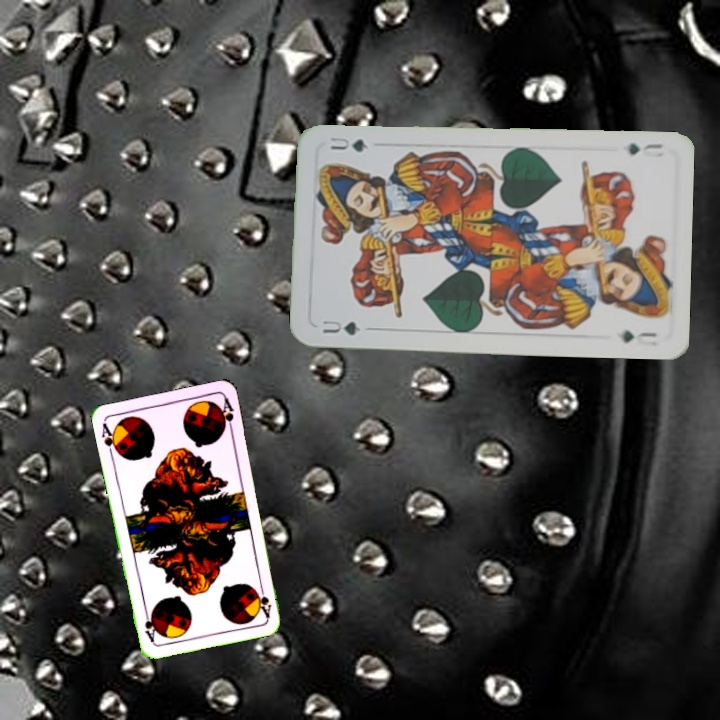GU: (318, 316, 363, 338), (623, 139, 665, 157)
SA: (98, 419, 122, 459), (254, 579, 274, 620)
